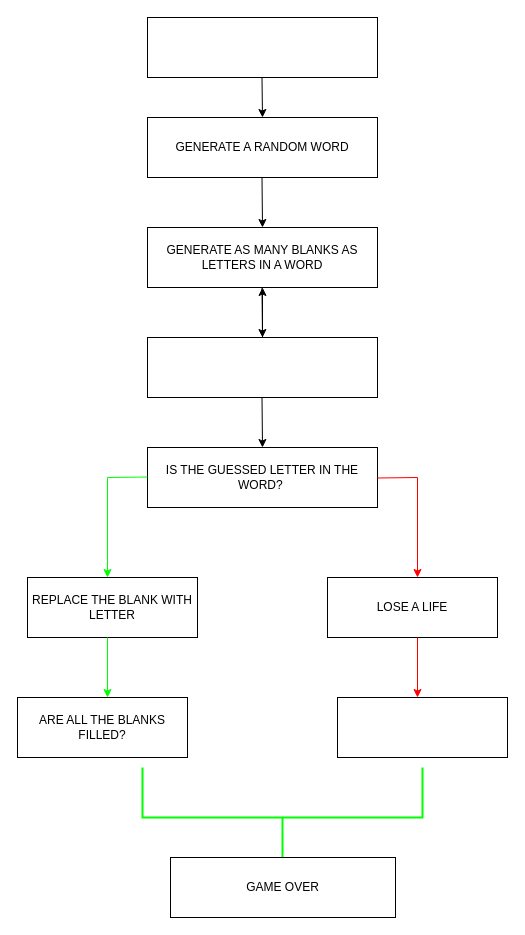
Some shapes in this 525 by 935 pixel diagram are drawn without their labels. Each missing label, with the centre of its shape:
"ASK THE USER TO GUESS A LETTER" belongs at [262,367].
"HAVE THEY RUN OUT OF LIVES?" belongs at [422,727].
"START" belongs at [262,47].
